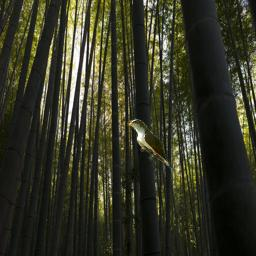Cuckoo: (127, 118, 179, 177)
